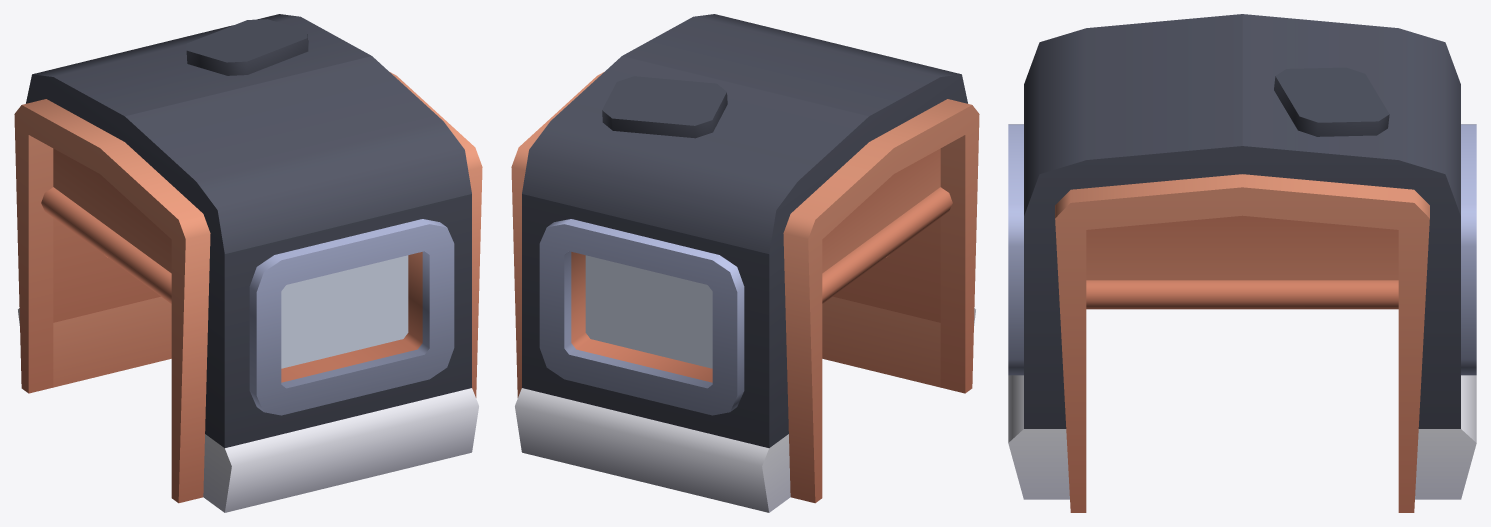
Rendered from machine-window.obj.
The picture shows the model from 3 angles, left to right: view 1: azimuth 30°, elevation 25°; view 2: azimuth 150°, elevation 25°; view 3: azimuth 270°, elevation 25°; orthographic projection. The views are drawn at different scales.
Parts seen in each view (by area): view 1: machine-window; view 2: machine-window; view 3: machine-window.
Boxes of the visible parts, box(x1,y1,x2,y2) form: machine-window: box(14, 14, 482, 512); machine-window: box(511, 14, 979, 512); machine-window: box(1008, 14, 1476, 512).
Size of the model in its own units: 1.2 by 1.29 by 1.5.
